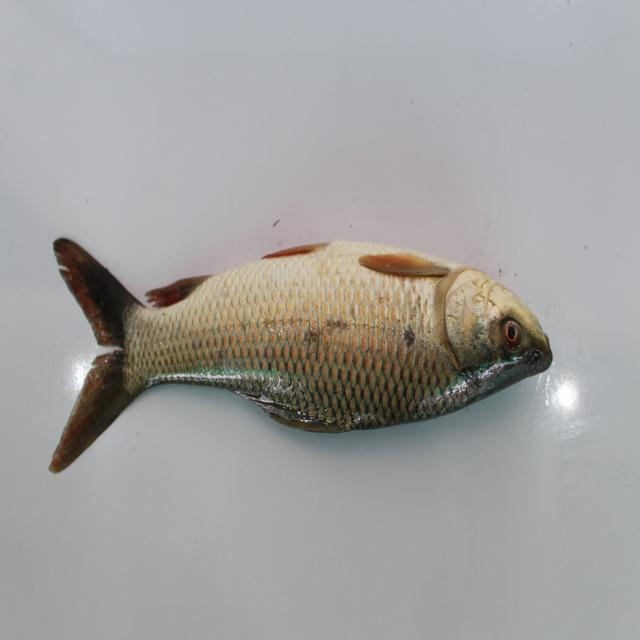Rohu: (51, 214, 566, 489)
